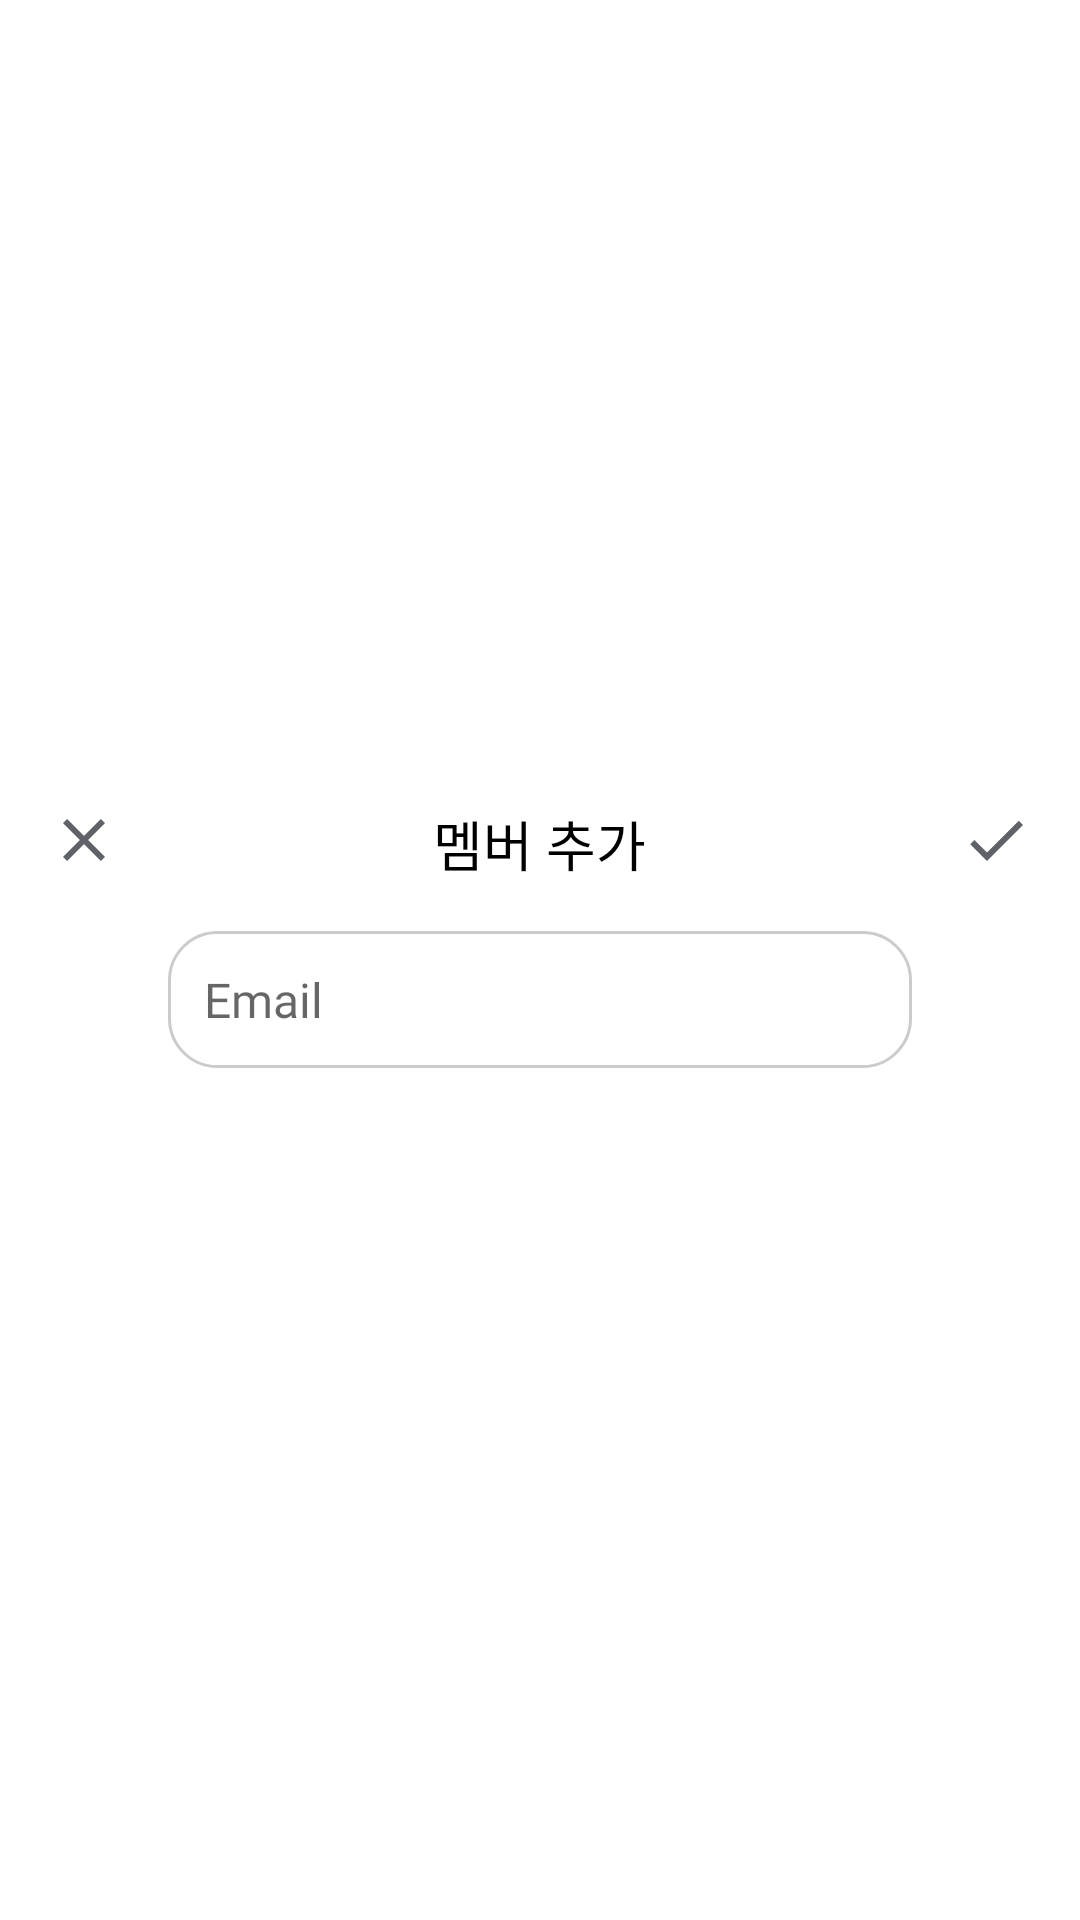

Where icons sit on this 1080 × 1920 app screen, as [x1,y1,x2,y2]:
Cancel: [63,819,105,861]
